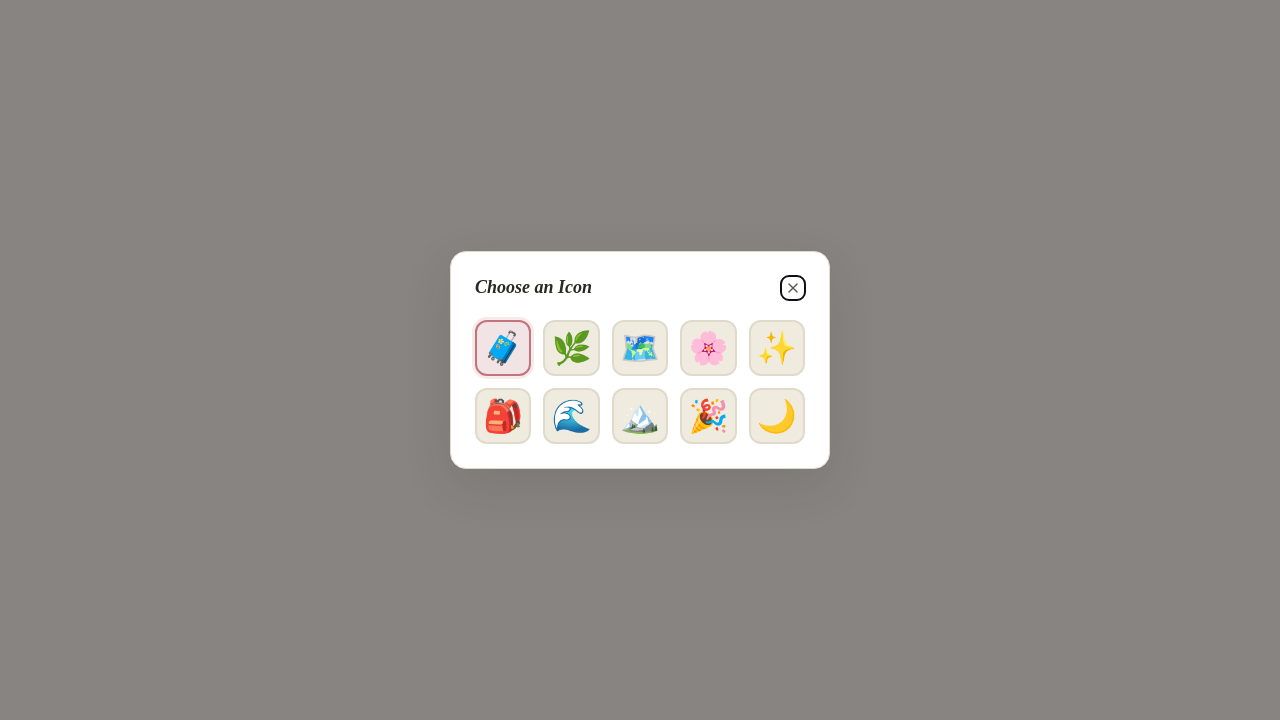
Test: IconChoiceModal › should use shared tooltips and preserve icon accessible labels
Focus the button named "Suitcase" at [503, 348], box [475, 320, 531, 376]
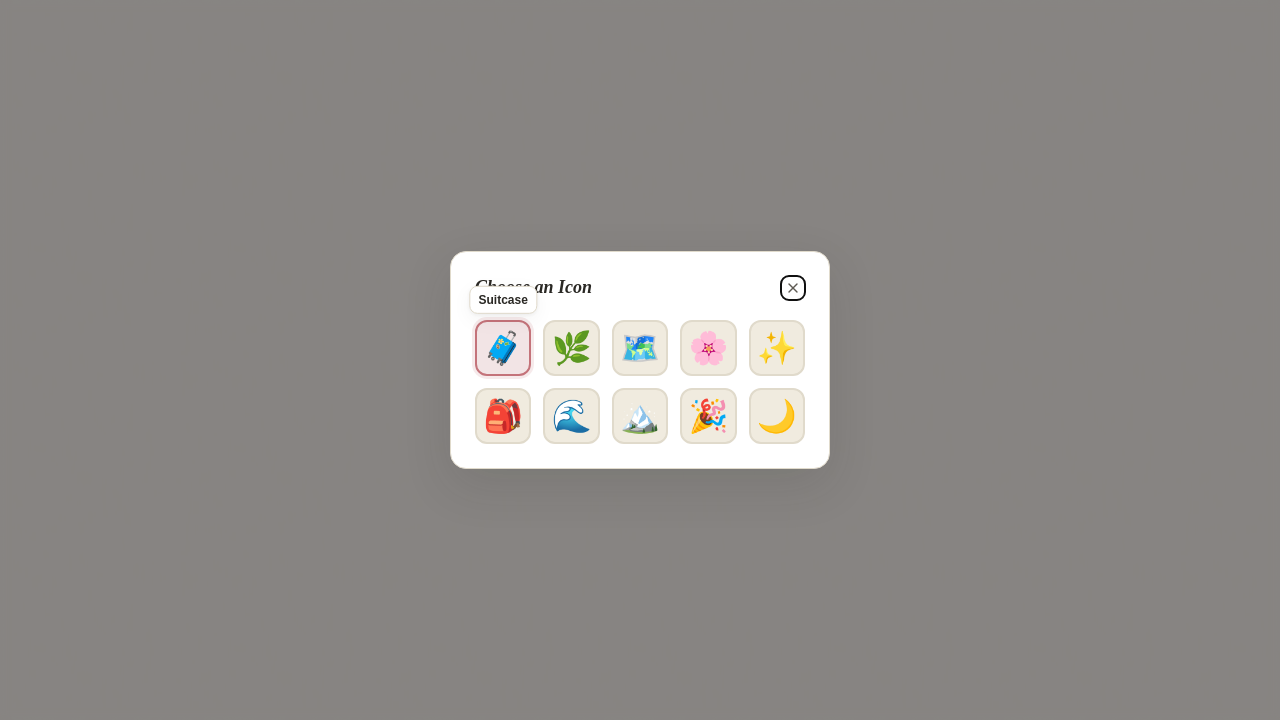
Check: the tooltip reads "Suitcase", box [478, 292, 528, 306]
